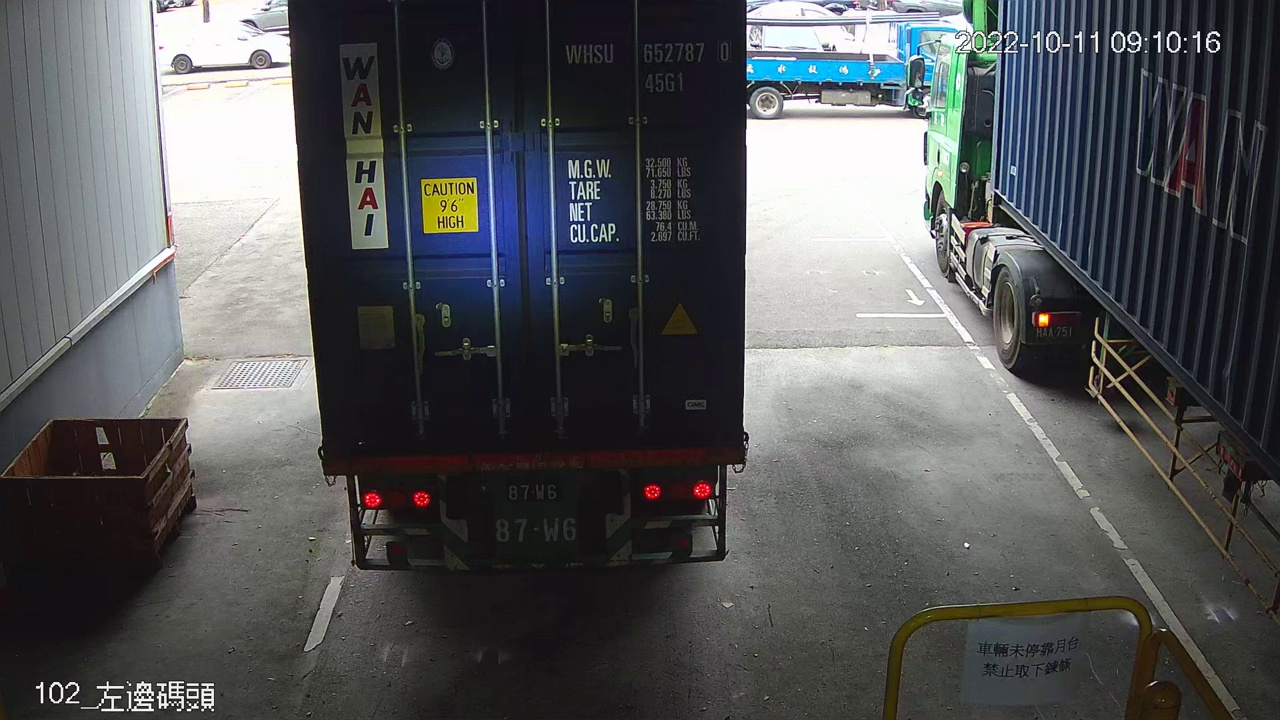container: (558, 36, 737, 99)
